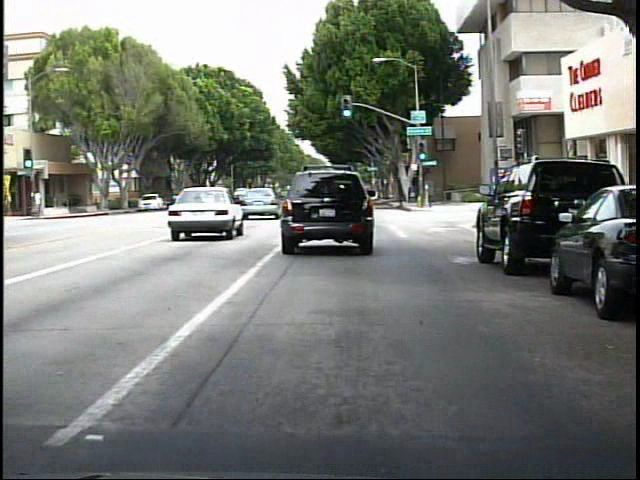person: (36, 187, 47, 218)
